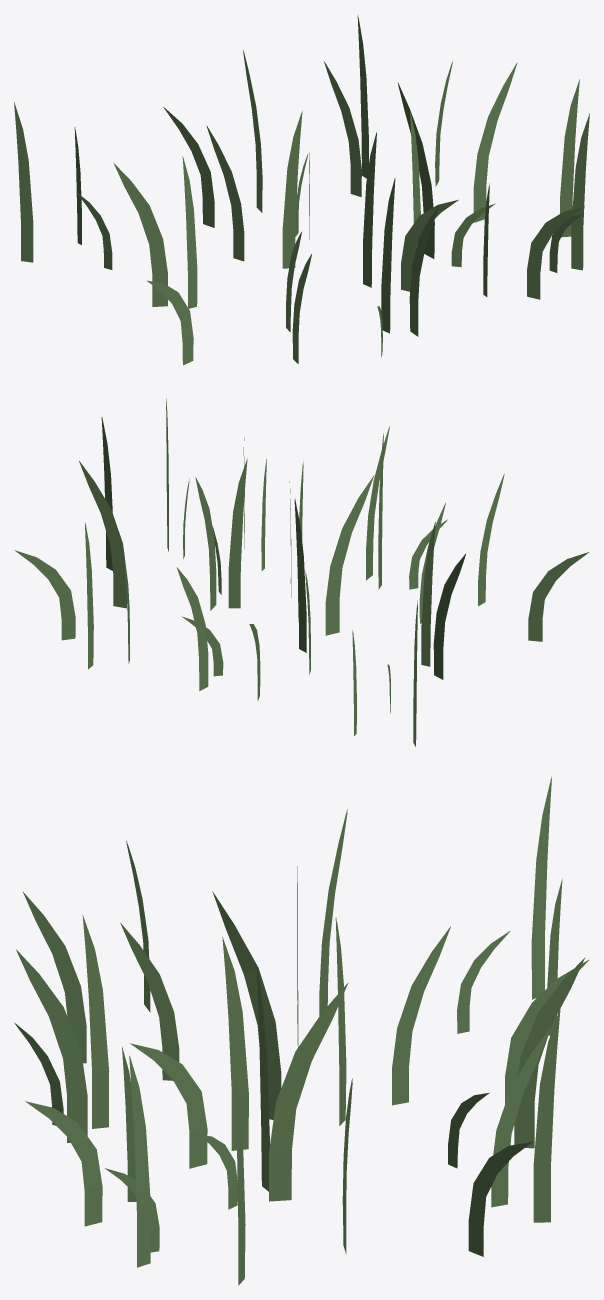
Rendered from Grass_05.fbx.
3 renders of one model, top to bottom at view 1: azimuth 30°, elevation 25°; view 2: azimuth 150°, elevation 25°; view 3: azimuth 270°, elevation 25°, orthographic. The views are drawn at different scales.
Parts seen in each view (by area): view 1: Grass_05; view 2: Grass_05; view 3: Grass_05.
Boxes of the visible parts, x1=… form: Grass_05: x1=14, y1=15, x2=589, y2=365; Grass_05: x1=14, y1=398, x2=589, y2=746; Grass_05: x1=14, y1=776, x2=588, y2=1285.
Bounding box in the file's own units: 50.45 × 16.99 × 39.1.
